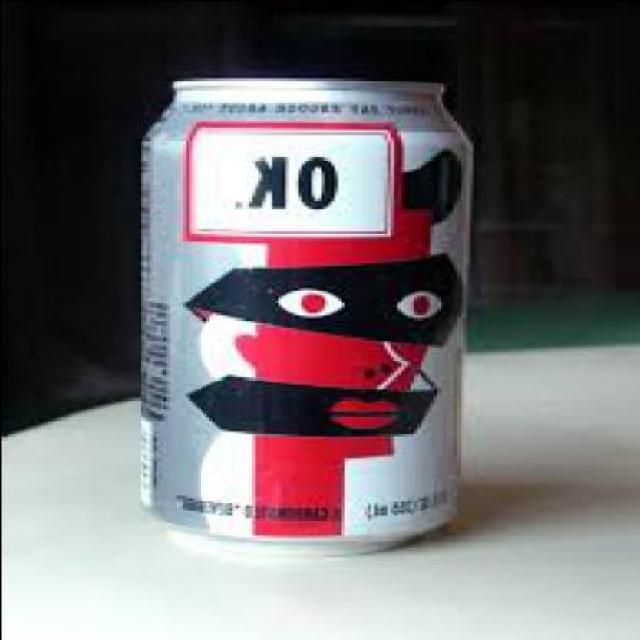METAL: (136, 77, 476, 551)
